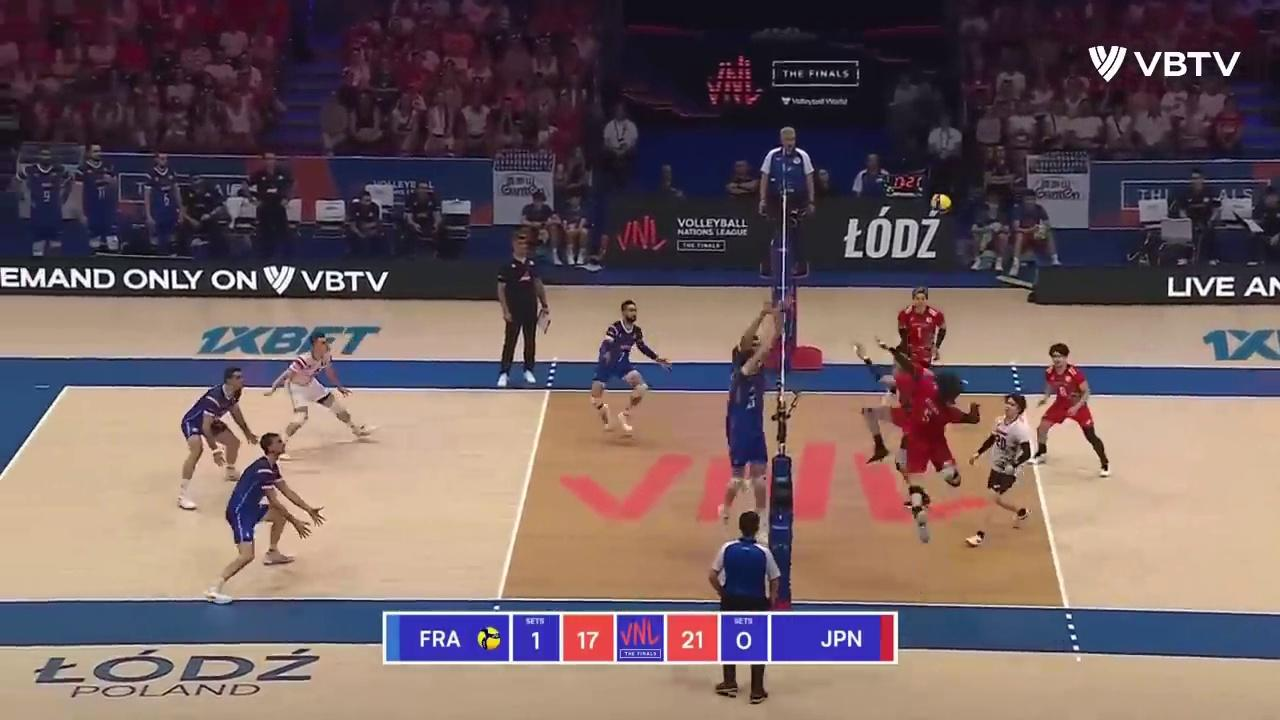ball: (930, 194, 952, 214)
